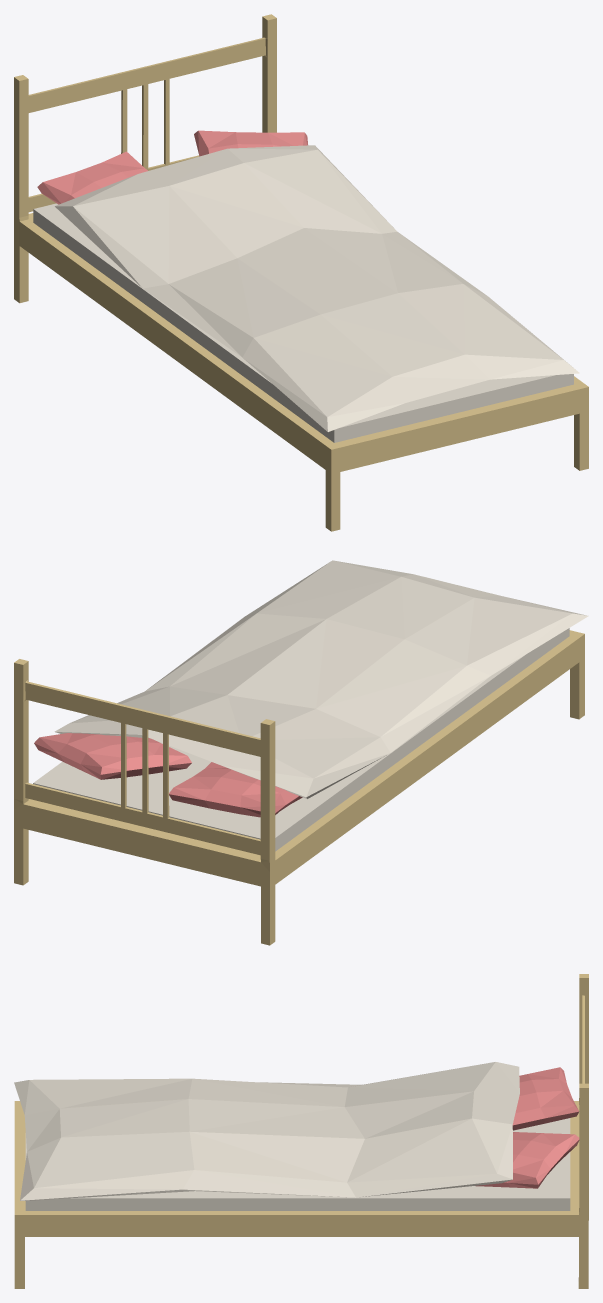
File: IKEA_bed_FJELLSE.dae
The picture shows the model from 3 angles, top to bottom: view 1: azimuth 30°, elevation 25°; view 2: azimuth 150°, elevation 25°; view 3: azimuth 270°, elevation 25°; orthographic projection. The views are drawn at different scales.
Parts seen in each view (by area): view 1: IKEA_bed_FJELLSE; view 2: IKEA_bed_FJELLSE; view 3: IKEA_bed_FJELLSE.
Boxes of the visible parts, x1,y1,x2,y2 form: IKEA_bed_FJELLSE: (14,14,588,531); IKEA_bed_FJELLSE: (14,560,588,945); IKEA_bed_FJELLSE: (14,974,588,1288).
Bounding box in the file's own units: 1.01 × 2.07 × 0.8.
